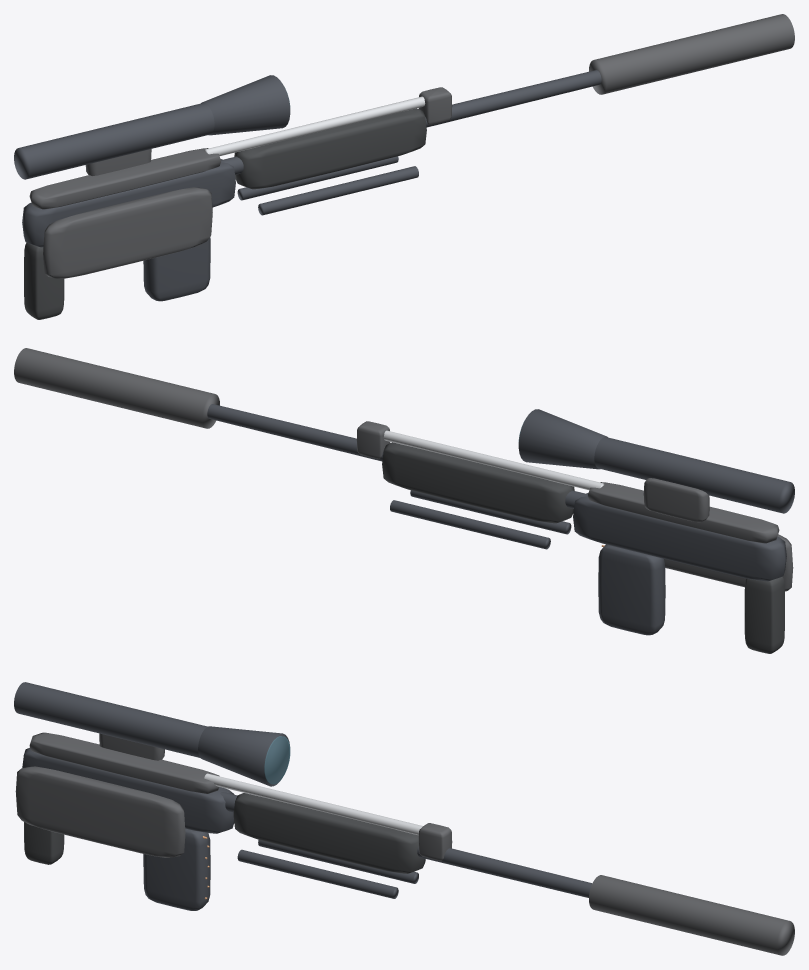
File: svd-sm-sup-reg.glb
3 renders of one model, top to bottom at view 1: azimuth 30°, elevation 25°; view 2: azimuth 150°, elevation 25°; view 3: azimuth 330°, elevation 25°, orthographic.
Visible parts, largest first — view 1: folded_stock_bar, handguard, suppressor, optic_tube, dust_cover, receiver, optic_obj, mag_body, barrel, gas_piston_short, pistol_grip, bipod_leg_R (+3 smaller); view 2: receiver, handguard, suppressor, optic_tube, mag_body, optic_obj, dust_cover, pistol_grip, barrel, gas_piston_short, optic_mount, bipod_leg_L (+3 smaller); view 3: folded_stock_bar, handguard, suppressor, optic_tube, dust_cover, mag_body, receiver, optic_obj, barrel, gas_piston_short, bipod_leg_R, pistol_grip (+4 smaller).
Boxes of the visible parts, box(x1,y1,x2,y2) form: folded_stock_bar: box(43, 187, 212, 278); handguard: box(234, 108, 426, 189); suppressor: box(589, 14, 794, 94); optic_tube: box(14, 103, 214, 179); dust_cover: box(29, 148, 220, 209); receiver: box(22, 159, 235, 247); optic_obj: box(201, 75, 290, 135); mag_body: box(143, 237, 210, 301); barrel: box(221, 70, 601, 174); gas_piston_short: box(204, 96, 425, 155); pistol_grip: box(24, 242, 64, 319); bipod_leg_R: box(258, 166, 418, 215); receiver: box(573, 493, 786, 581); handguard: box(382, 442, 574, 523); suppressor: box(14, 348, 219, 428); optic_tube: box(594, 437, 794, 513); mag_body: box(598, 544, 665, 635); optic_obj: box(518, 409, 607, 469); dust_cover: box(588, 482, 779, 543); pistol_grip: box(744, 576, 784, 653); barrel: box(207, 404, 587, 508); gas_piston_short: box(383, 430, 604, 489); optic_mount: box(643, 478, 709, 522); bipod_leg_L: box(390, 500, 550, 549); folded_stock_bar: box(15, 766, 185, 857); handguard: box(233, 793, 425, 873); suppressor: box(589, 875, 794, 955); optic_tube: box(14, 682, 207, 757); dust_cover: box(29, 732, 219, 793); mag_body: box(143, 828, 210, 910); receiver: box(22, 747, 234, 833); optic_obj: box(198, 726, 289, 786); barrel: box(220, 792, 592, 897); gas_piston_short: box(204, 773, 423, 835); bipod_leg_R: box(237, 849, 398, 898); pistol_grip: box(24, 822, 64, 864).
Bounding box in the file's own units: 1.03 × 0.2505 × 0.0738.
